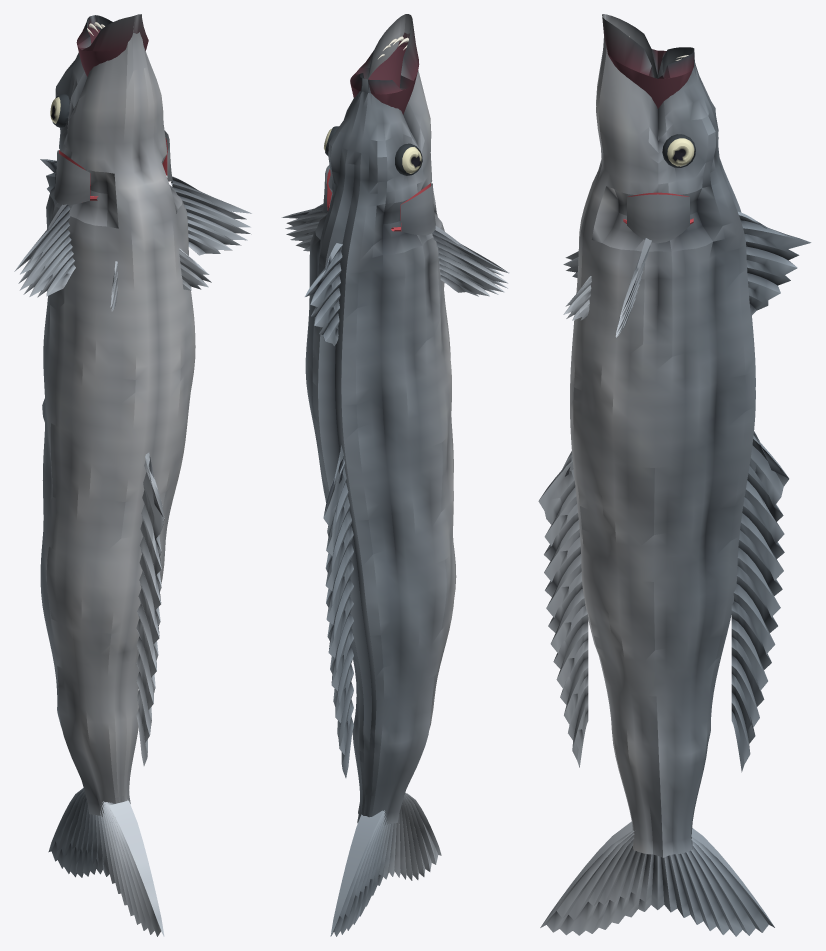
File: fish_hake.glb
The picture shows the model from 3 angles, left to right: view 1: azimuth 30°, elevation 25°; view 2: azimuth 150°, elevation 25°; view 3: azimuth 270°, elevation 25°; orthographic projection. The views are drawn at different scales.
Parts seen in each view (by area): view 1: Fish_hake; view 2: Fish_hake; view 3: Fish_hake.
Part boxes in pixels (x1,y1,x2,y2): Fish_hake: (14,14,251,936); Fish_hake: (281,14,509,936); Fish_hake: (538,14,811,936).
Bounding box in the file's own units: 0.3397 × 1.23 × 0.3309.
